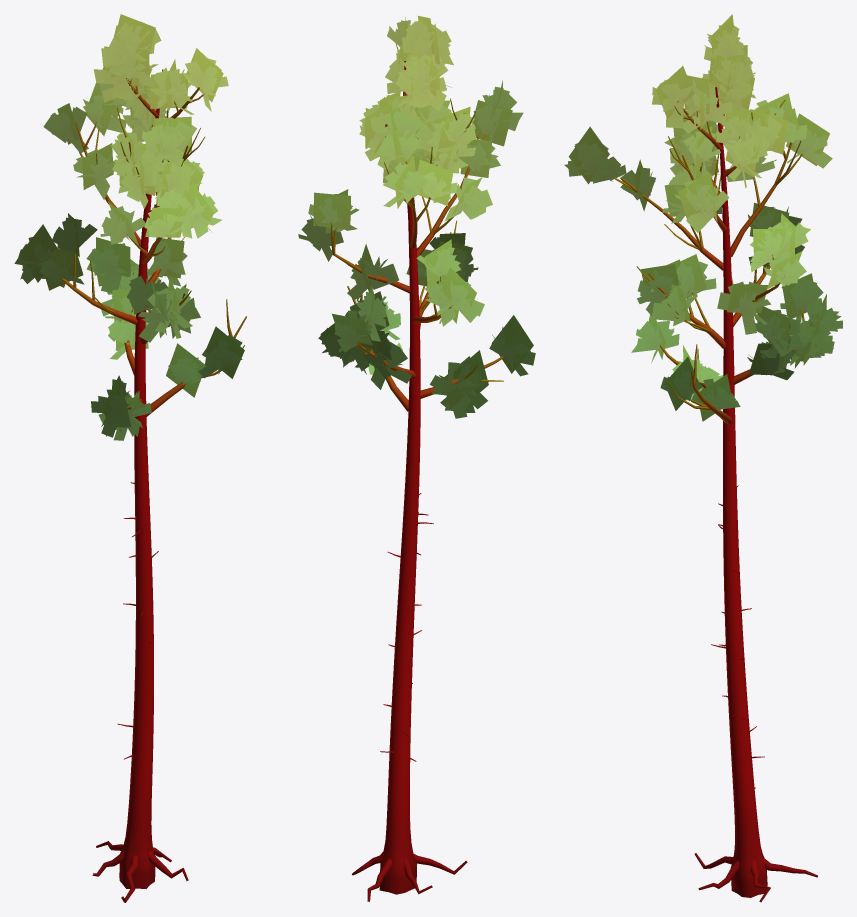
Rendered from pine_b.glb.
3 views of the same model, side by side, from view 1: azimuth 30°, elevation 25°; view 2: azimuth 150°, elevation 25°; view 3: azimuth 270°, elevation 25° (orthographic).
Visible parts, largest first — view 1: LOD0; view 2: LOD0; view 3: LOD0.
Part boxes in pixels (left/top/right/bottom): LOD0: left=14, top=14, right=246, bottom=902; LOD0: left=298, top=16, right=535, bottom=901; LOD0: left=564, top=14, right=842, bottom=902.
Size of what is drawn, in the model's own units: 5.56 by 23.13 by 6.76.
